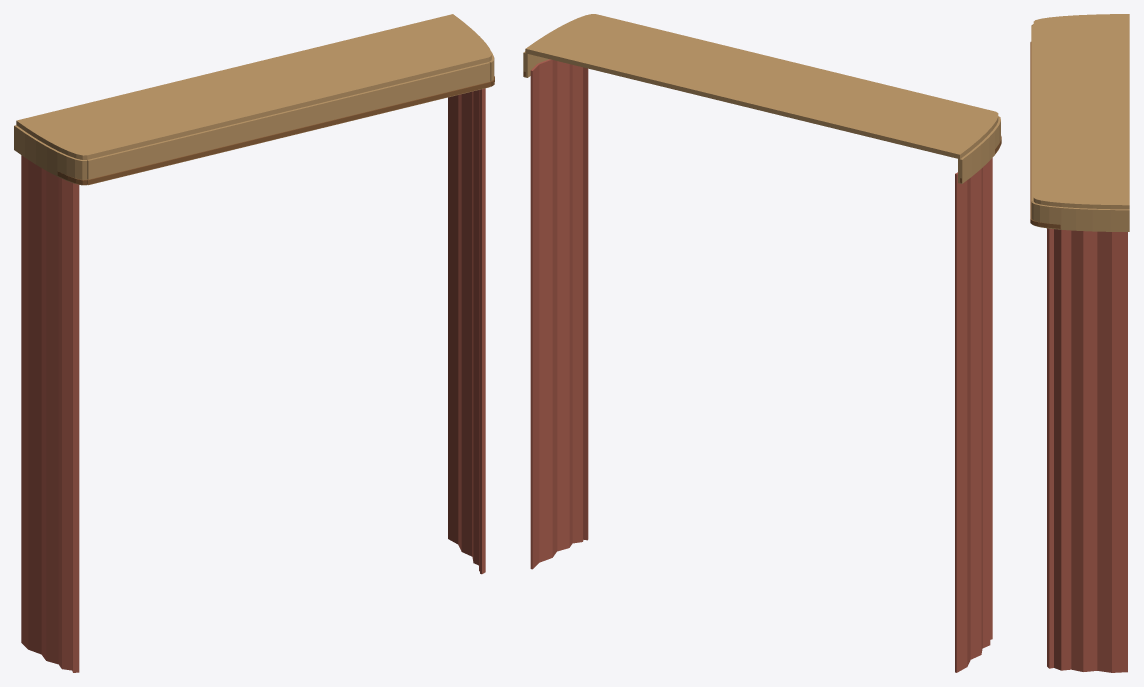
File: curtain_cornice.glb
The picture shows the model from 3 angles, left to right: view 1: azimuth 30°, elevation 25°; view 2: azimuth 150°, elevation 25°; view 3: azimuth 270°, elevation 25°; orthographic projection. The views are drawn at different scales.
Visible parts, largest first — view 1: curtain_cornice; view 2: curtain_cornice; view 3: curtain_cornice.
Part boxes in pixels (x1=…): curtain_cornice: x1=14, y1=14, x2=494, y2=672; curtain_cornice: x1=523, y1=14, x2=1001, y2=672; curtain_cornice: x1=1030, y1=14, x2=1129, y2=672.
Bounding box in the file's own units: 2.52 × 2.86 × 0.5482.
